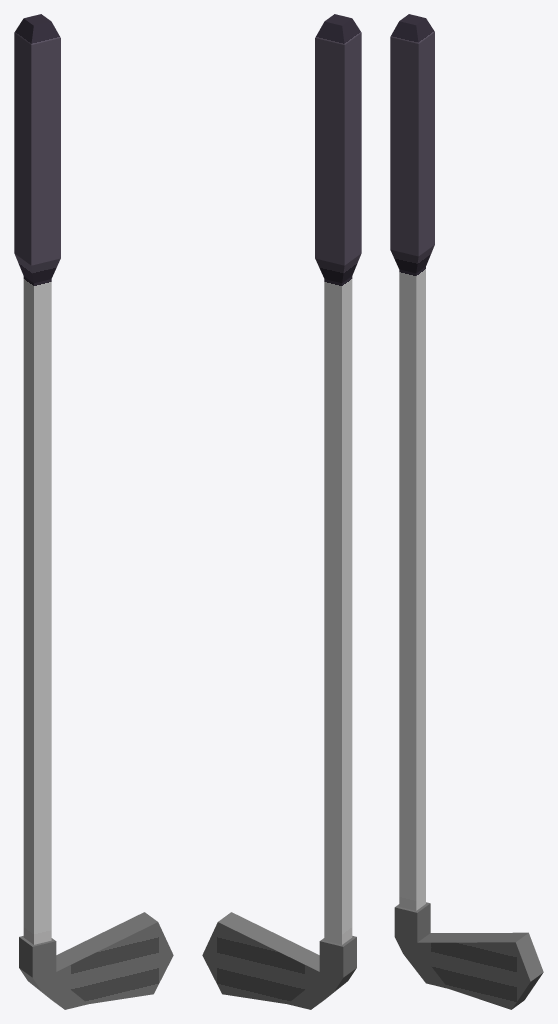
Rendered from goldClub.gltf.
The picture shows the model from 3 angles, left to right: view 1: azimuth 30°, elevation 25°; view 2: azimuth 150°, elevation 25°; view 3: azimuth 330°, elevation 25°; orthographic projection. The views are drawn at different scales.
Visible parts, largest first — view 1: cuboid; view 2: cuboid; view 3: cuboid.
Boxes of the visible parts, left/top/right/bottom form: cuboid: left=14, top=14, right=173, bottom=1009; cuboid: left=202, top=14, right=361, bottom=1009; cuboid: left=390, top=14, right=543, bottom=1009.
Size of the model in its own units: 0.1526 by 1.01 by 0.0312.
Materials: 1 (1 with a texture image).
